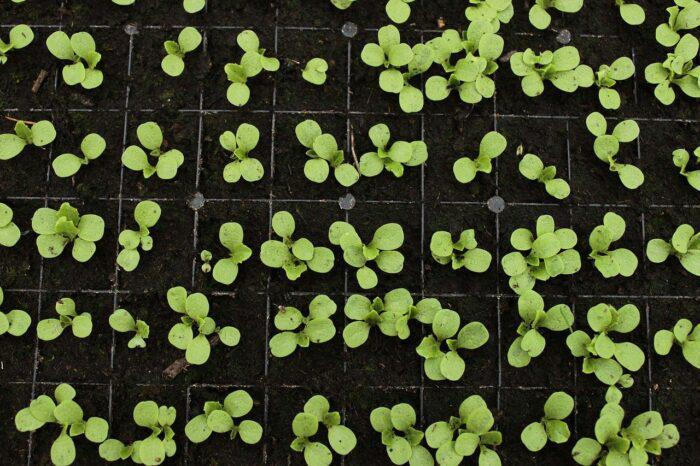GERMINATED: (341, 286, 419, 373), (125, 111, 198, 193), (275, 201, 344, 286), (36, 382, 110, 460), (427, 290, 493, 377), (186, 296, 258, 374), (49, 198, 113, 284), (196, 199, 259, 286), (428, 207, 498, 283), (277, 390, 350, 462), (427, 33, 495, 110), (506, 294, 569, 377), (515, 207, 581, 285), (194, 390, 264, 462), (52, 111, 118, 187), (121, 200, 184, 279), (214, 30, 278, 107), (273, 297, 337, 372), (58, 25, 123, 98), (509, 124, 573, 198), (583, 298, 644, 375), (37, 293, 102, 365), (355, 31, 419, 104), (505, 32, 564, 110), (357, 204, 413, 286), (124, 386, 181, 466), (506, 390, 574, 457), (115, 289, 171, 370), (573, 33, 633, 108), (283, 117, 350, 184), (358, 392, 423, 460), (584, 392, 645, 464), (583, 118, 638, 197), (438, 120, 503, 185), (360, 121, 426, 185), (213, 122, 273, 192), (640, 31, 700, 101), (649, 209, 700, 287), (647, 121, 700, 196), (136, 29, 206, 85), (436, 393, 492, 461), (283, 36, 346, 93), (593, 212, 637, 285)
